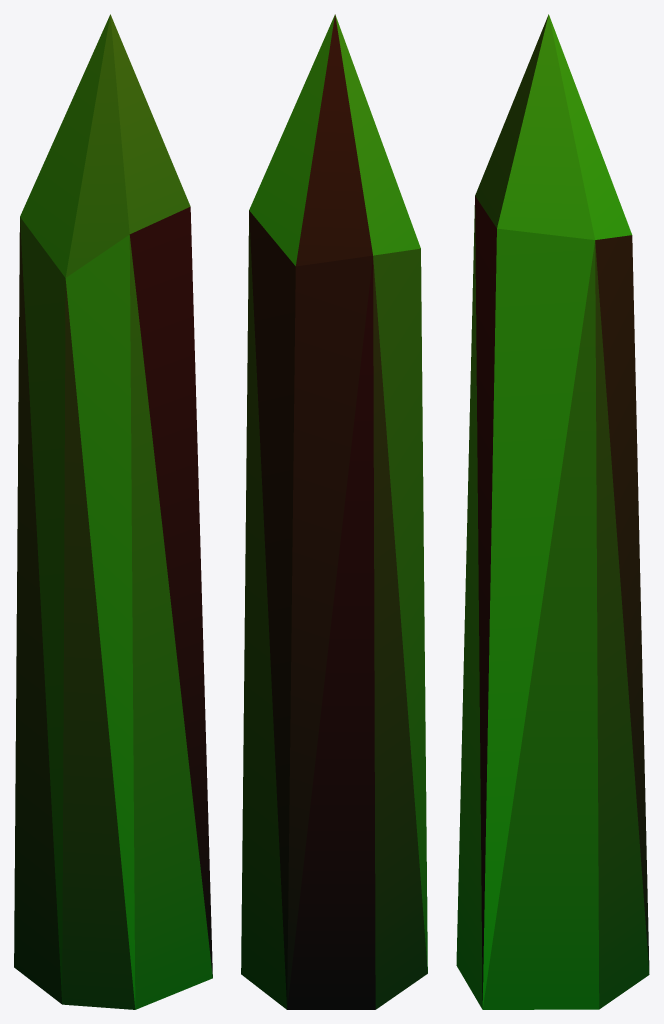
The model's file is Crystal_L_01.fbx.
3 renders of one model, left to right at view 1: azimuth 30°, elevation 25°; view 2: azimuth 150°, elevation 25°; view 3: azimuth 270°, elevation 25°, orthographic.
Visible parts, largest first — view 1: Crystal_L_01; view 2: Crystal_L_01; view 3: Crystal_L_01.
Boxes of the visible parts, x1,y1,x2,y2 form: Crystal_L_01: (14, 14, 212, 1009); Crystal_L_01: (241, 14, 427, 1009); Crystal_L_01: (456, 14, 649, 1009).
Bounding box in the file's own units: 0.4218 × 2.76 × 0.5012.
